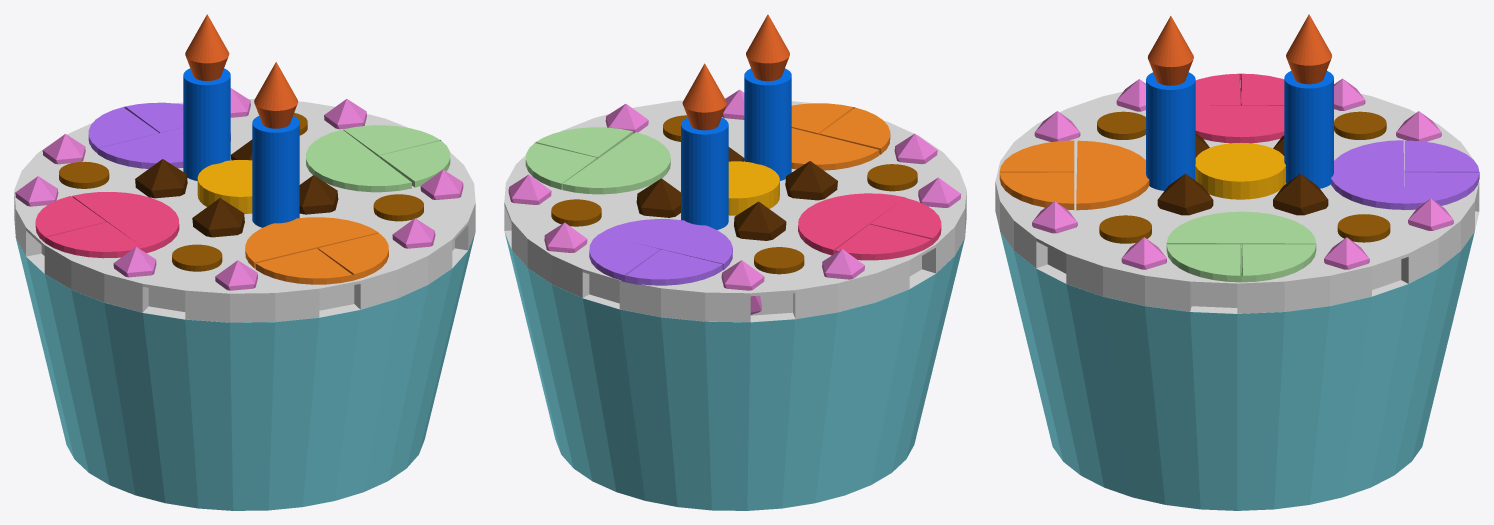
File: LegoCupcake2.fbx
3 views of the same model, side by side, from view 1: azimuth 30°, elevation 25°; view 2: azimuth 150°, elevation 25°; view 3: azimuth 270°, elevation 25° (orthographic). The views are drawn at different scales.
Visible parts, largest first — view 1: Cylinder, Cylinder.001, Cylinder.019, Cylinder.020, Cylinder.003, Cylinder.008, Cylinder.004, Cylinder.005, Cylinder.006, Cylinder.009, Cylinder.002, Cylinder.023 (+16 smaller); view 2: Cylinder, Cylinder.001, Cylinder.020, Cylinder.019, Cylinder.002, Cylinder.008, Cylinder.004, Cylinder.005, Cylinder.006, Cylinder.007, Cylinder.003, Cylinder.009 (+17 smaller); view 3: Cylinder, Cylinder.001, Cylinder.019, Cylinder.020, Cylinder.005, Cylinder.023, Cylinder.007, Cylinder.003, Cylinder.009, Cylinder.002, Cylinder.008, Cylinder.006 (+17 smaller).
Boxes of the visible parts, x1,y1,x2,y2 form: Cylinder: (16, 233, 475, 510); Cylinder.001: (14, 98, 475, 322); Cylinder.019: (252, 116, 299, 227); Cylinder.020: (183, 68, 230, 180); Cylinder.003: (255, 233, 388, 284); Cylinder.008: (306, 129, 411, 192); Cylinder.004: (35, 196, 143, 258); Cylinder.005: (343, 125, 450, 187); Cylinder.006: (72, 192, 179, 253); Cylinder.009: (245, 217, 378, 268); Cylinder.002: (88, 102, 183, 153); Cylinder.023: (197, 160, 252, 213); Cylinder: (504, 232, 964, 510); Cylinder.001: (504, 98, 966, 322); Cylinder.020: (681, 117, 728, 229); Cylinder.019: (744, 68, 791, 180); Cylinder.002: (589, 234, 722, 285); Cylinder.008: (562, 132, 670, 194); Cylinder.004: (834, 197, 941, 260); Cylinder.005: (525, 127, 632, 189); Cylinder.006: (798, 193, 905, 255); Cylinder.007: (599, 219, 732, 270); Cylinder.003: (791, 103, 890, 154); Cylinder.009: (791, 128, 879, 170); Cylinder: (1000, 232, 1474, 510); Cylinder.001: (995, 80, 1479, 313); Cylinder.019: (1146, 72, 1195, 190); Cylinder.020: (1284, 71, 1333, 188); Cylinder.005: (1166, 244, 1316, 282); Cylinder.023: (1195, 142, 1285, 199); Cylinder.007: (1331, 140, 1404, 209); Cylinder.003: (999, 140, 1074, 209); Cylinder.009: (1076, 140, 1149, 210); Cylinder.002: (1404, 140, 1479, 209); Cylinder.008: (1166, 211, 1316, 247); Cylinder.006: (1195, 105, 1284, 143).
Size of the model in its own units: 200 by 189 by 200.
